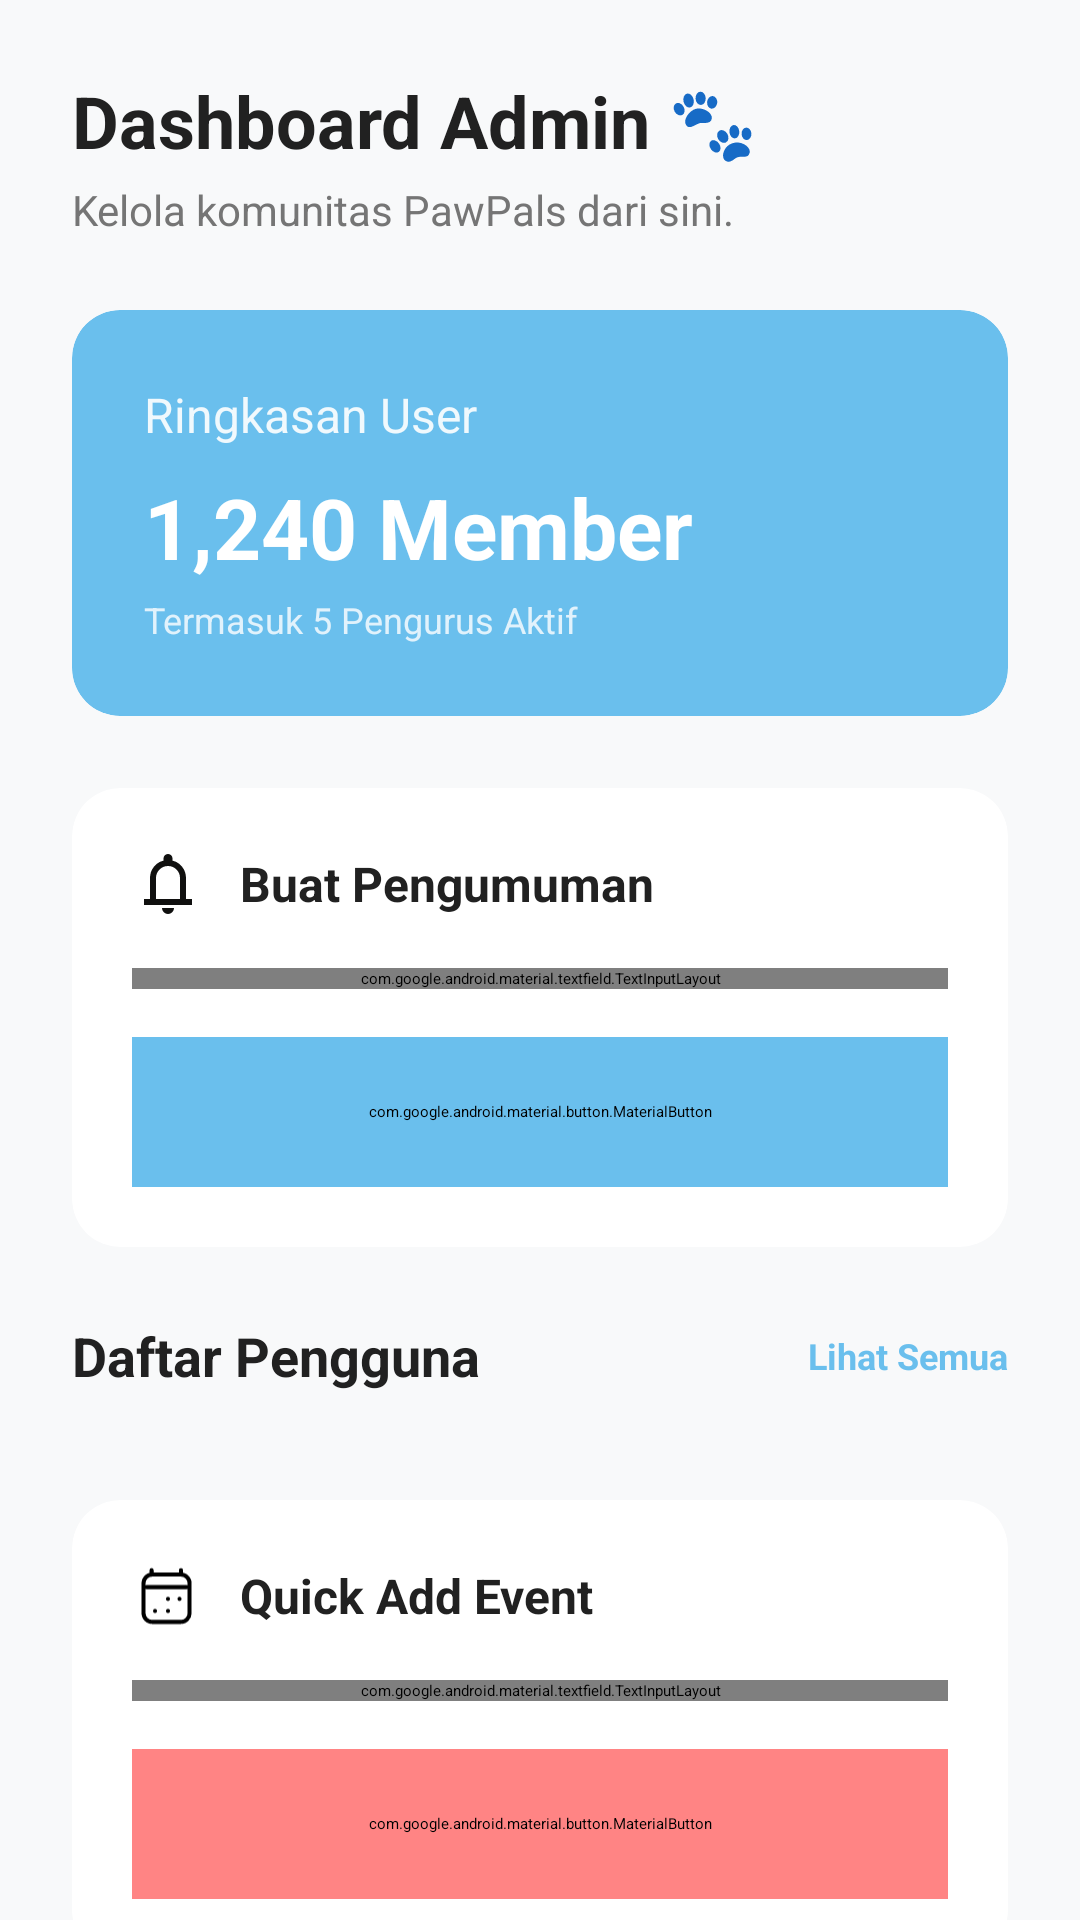

Named icons in this screenshot (1080 × 1920) and their bounding boxes, (x1, y1, x2, y2):
calendar: (141, 1567, 192, 1625)
notification: (144, 854, 192, 914)
